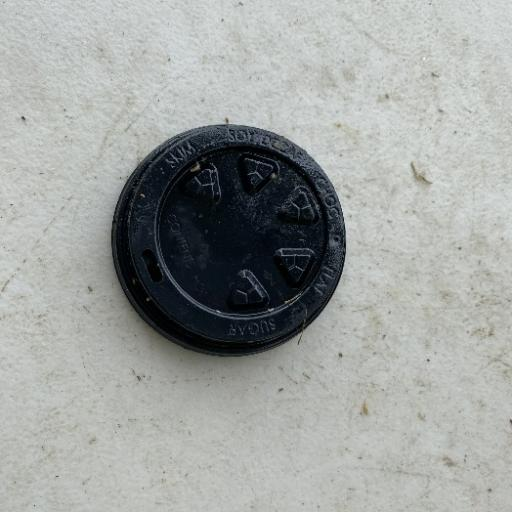Plastic: (107, 120, 350, 359)
